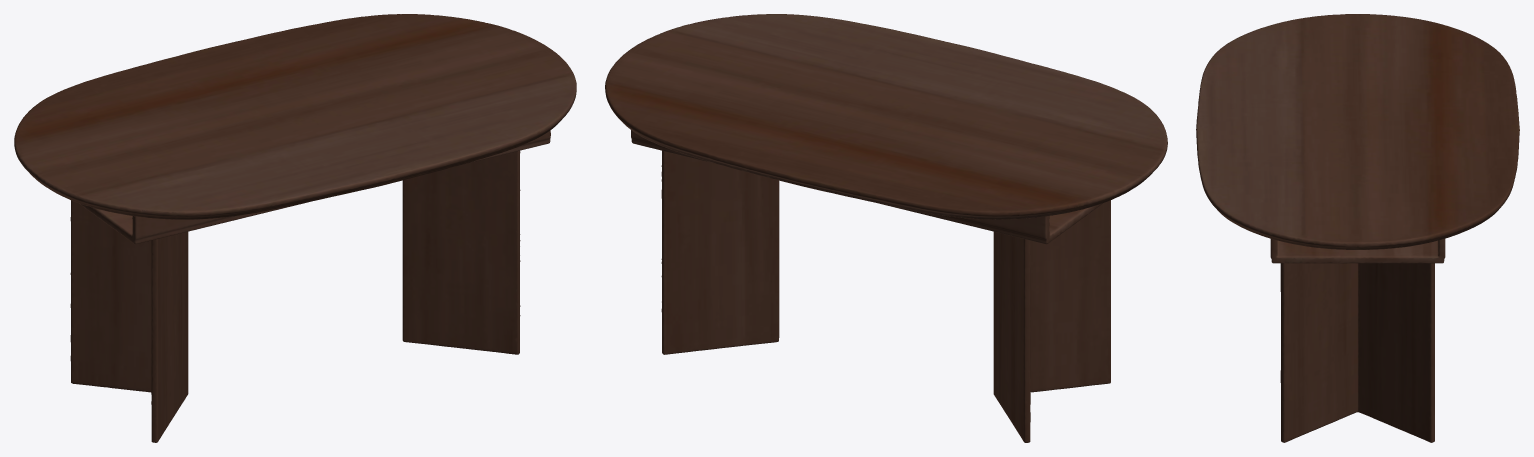
File: Dark Walnut Laminate Oval Conference Table [qsF00F].glb
3 renders of one model, left to right at view 1: azimuth 30°, elevation 25°; view 2: azimuth 150°, elevation 25°; view 3: azimuth 270°, elevation 25°, orthographic. The views are drawn at different scales.
Parts seen in each view (by area): view 1: world; view 2: world; view 3: world.
Part boxes in pixels (<box>): world: <box>14,14,576,442</box>; world: <box>605,14,1167,442</box>; world: <box>1196,14,1519,442</box>.
Bounding box in the file's own units: 1 × 0.4763 × 0.5982.
1 material, 1 textured.
